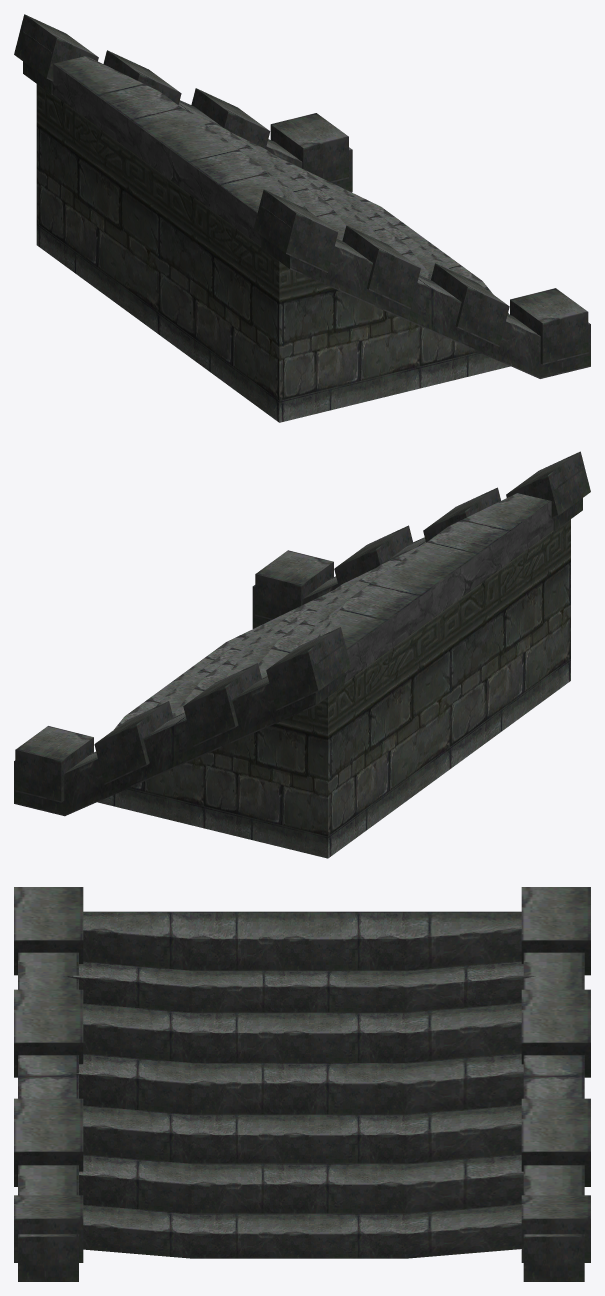
The model's file is environment_Building_qiaoliang_003_c.FBX.
3 renders of one model, top to bottom at view 1: azimuth 30°, elevation 25°; view 2: azimuth 150°, elevation 25°; view 3: azimuth 270°, elevation 25°, orthographic. The views are drawn at different scales.
Visible parts, largest first — view 1: environment_Building_qiaoliang_003_c; view 2: environment_Building_qiaoliang_003_c; view 3: environment_Building_qiaoliang_003_c.
Part boxes in pixels (x1=…): environment_Building_qiaoliang_003_c: x1=14, y1=14, x2=590, y2=422; environment_Building_qiaoliang_003_c: x1=14, y1=451, x2=590, y2=858; environment_Building_qiaoliang_003_c: x1=14, y1=887, x2=590, y2=1281.
Size of the model in its own units: 157 by 111 by 240.
